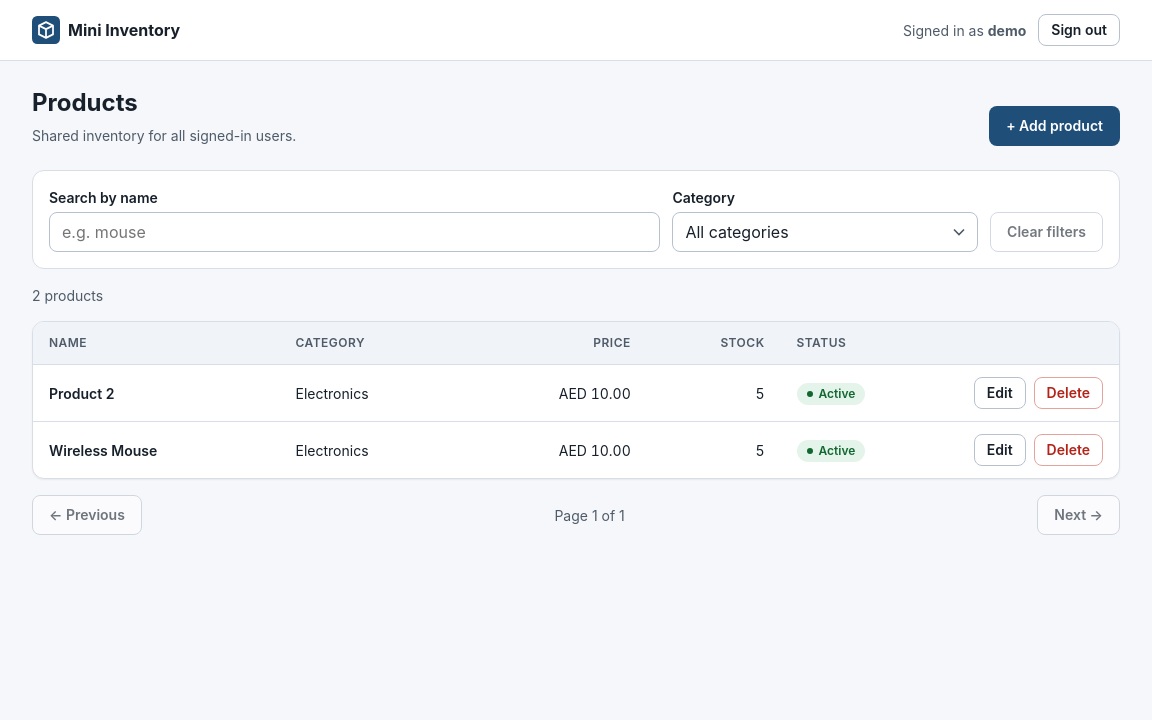
Test: delete product › reports a product already deleted elsewhere
The image size is (1152, 720).
Step 1. Click the button with aria-label "Delete Wireless Mouse" → [1068, 450], box [1034,434,1103,466]
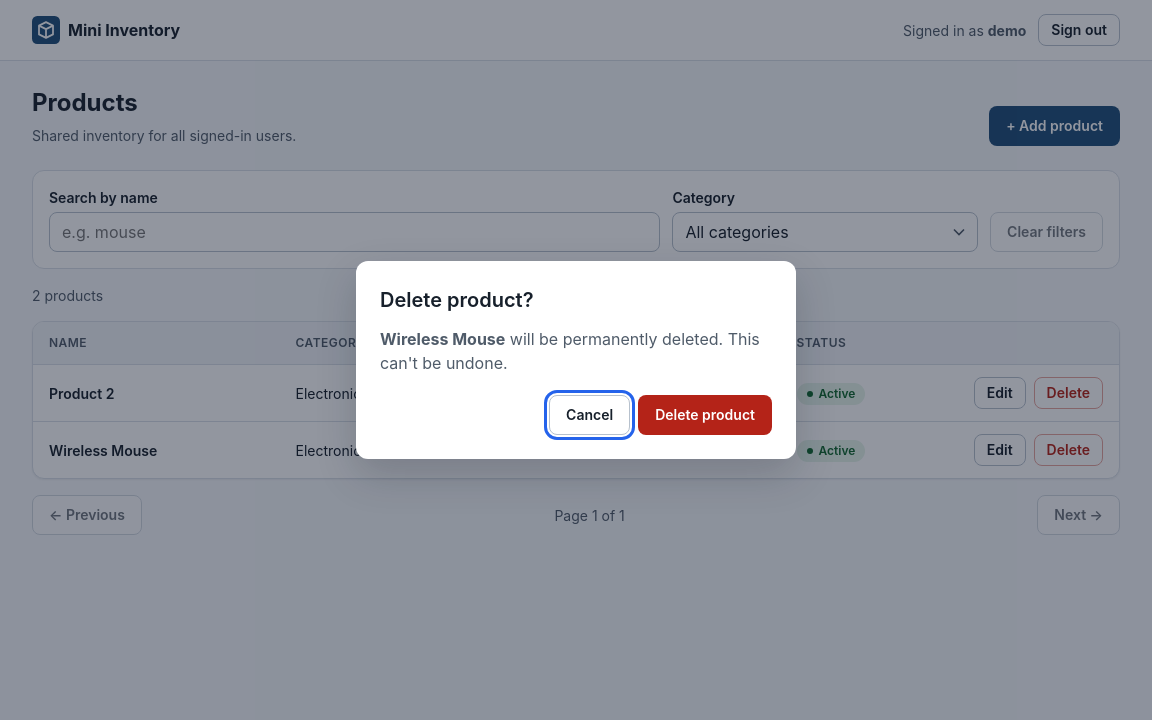
Step 2. Click the button "Delete product" → [705, 415], box [638,395,772,435]
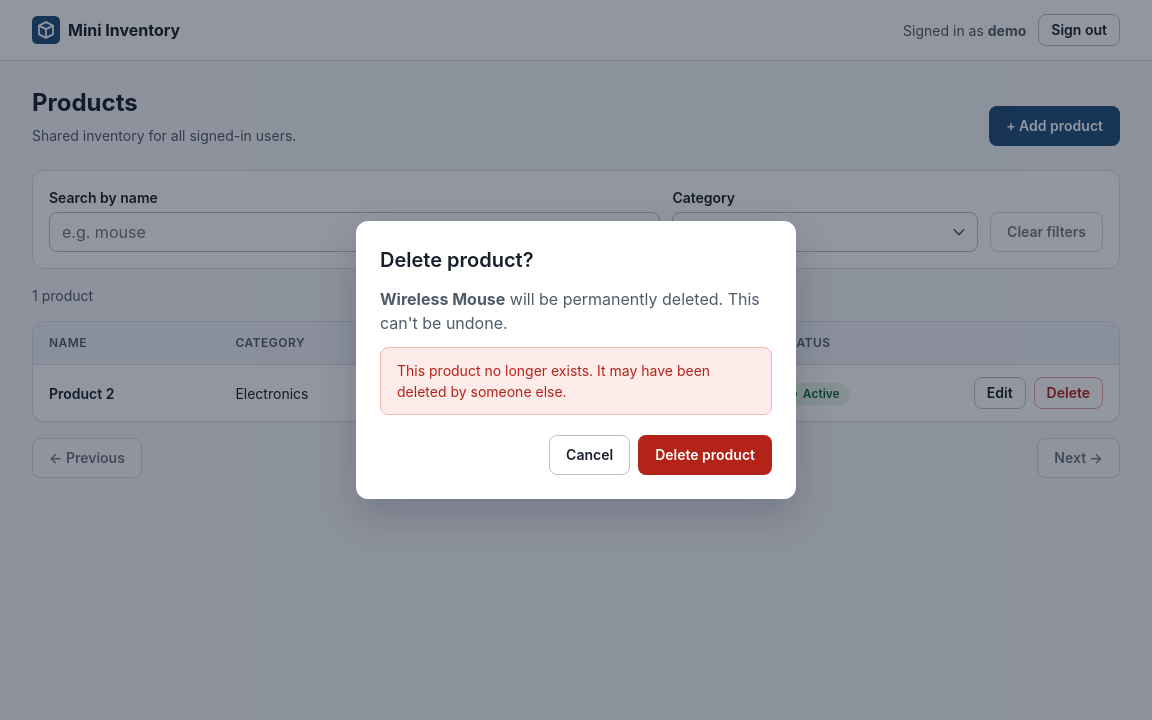
Now the message shows "no longer exists", box [397,362,710,400]
